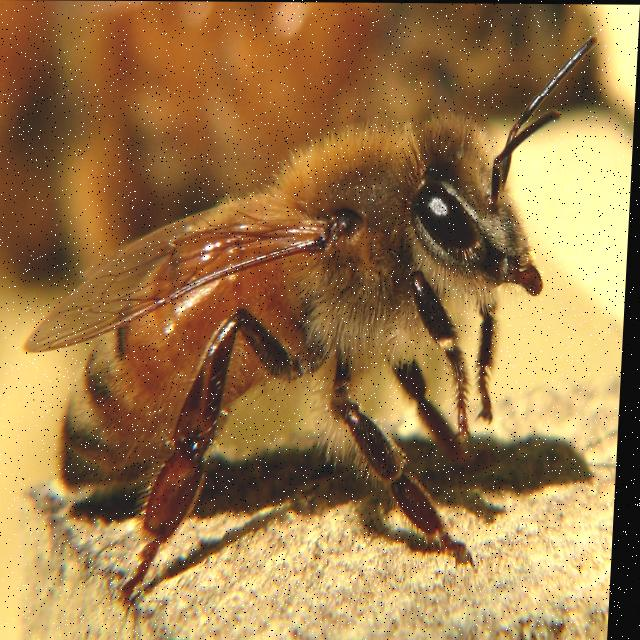Apis-mellifera-scutellata: (15, 92, 582, 592)
